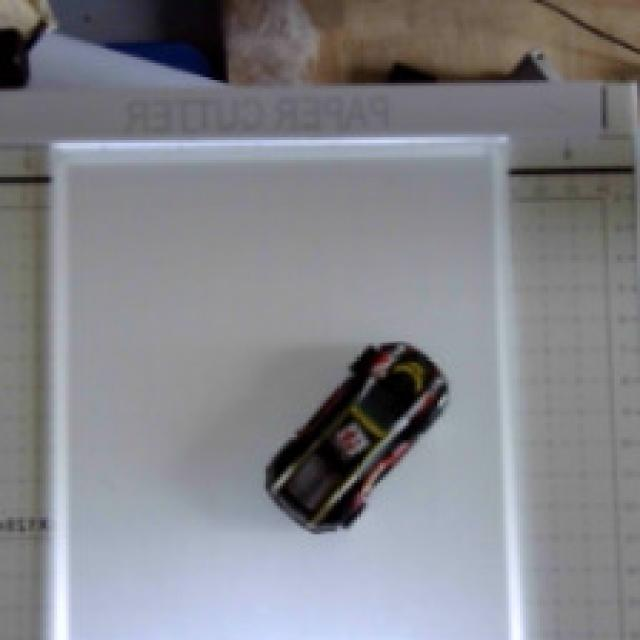Red Car: (229, 297, 472, 578)
